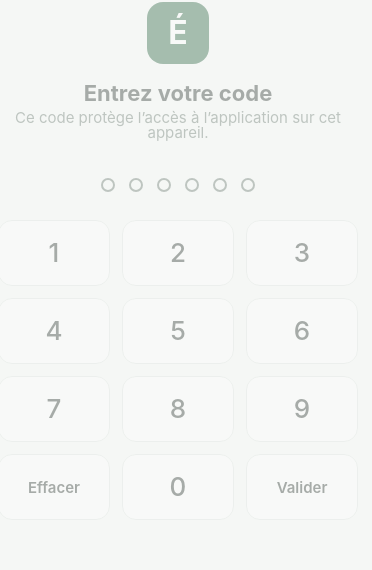
Test: lancements suivants › refuse un mauvais code sans ouvrir l application
Expected: the heading "Entrez votre code" is shown, x1=84 y1=80 x2=272 y2=106
Click the button "9" at (302, 409), box x1=246 y1=376 x2=358 y2=442
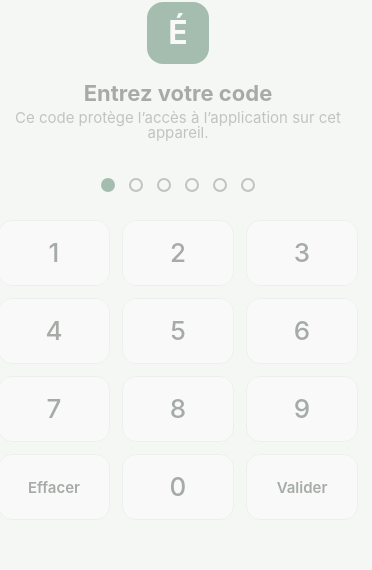
Click the button "9" at (302, 409), box x1=246 y1=376 x2=358 y2=442
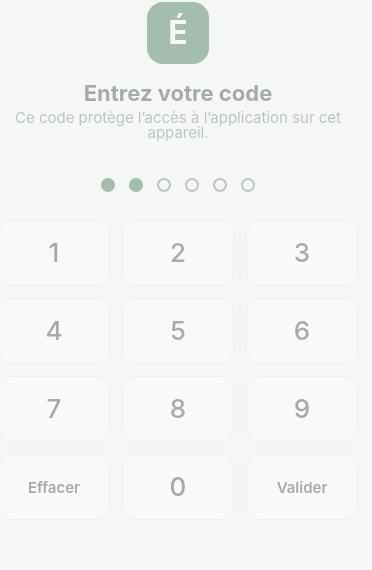
Click the button "9" at (302, 409), box x1=246 y1=376 x2=358 y2=442
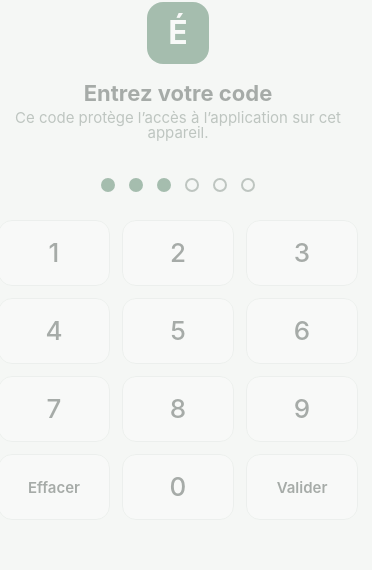
Click the button "9" at (302, 409), box x1=246 y1=376 x2=358 y2=442
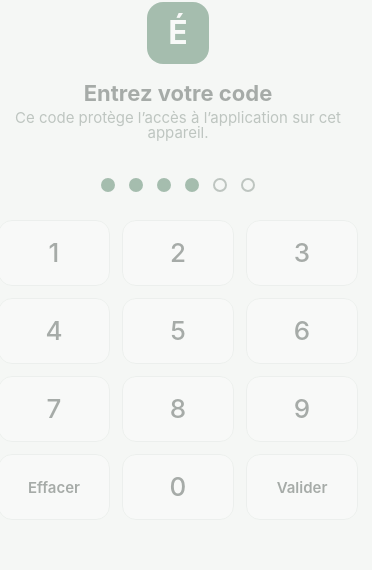
Click the button "Valider" at (302, 487), box x1=246 y1=454 x2=358 y2=520
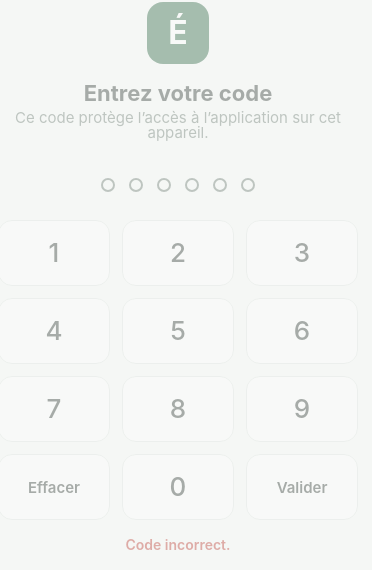
Expected: the text "Code incorrect." is shown, x1=126 y1=536 x2=231 y2=553
